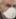with_mask: (2, 2, 16, 19)
